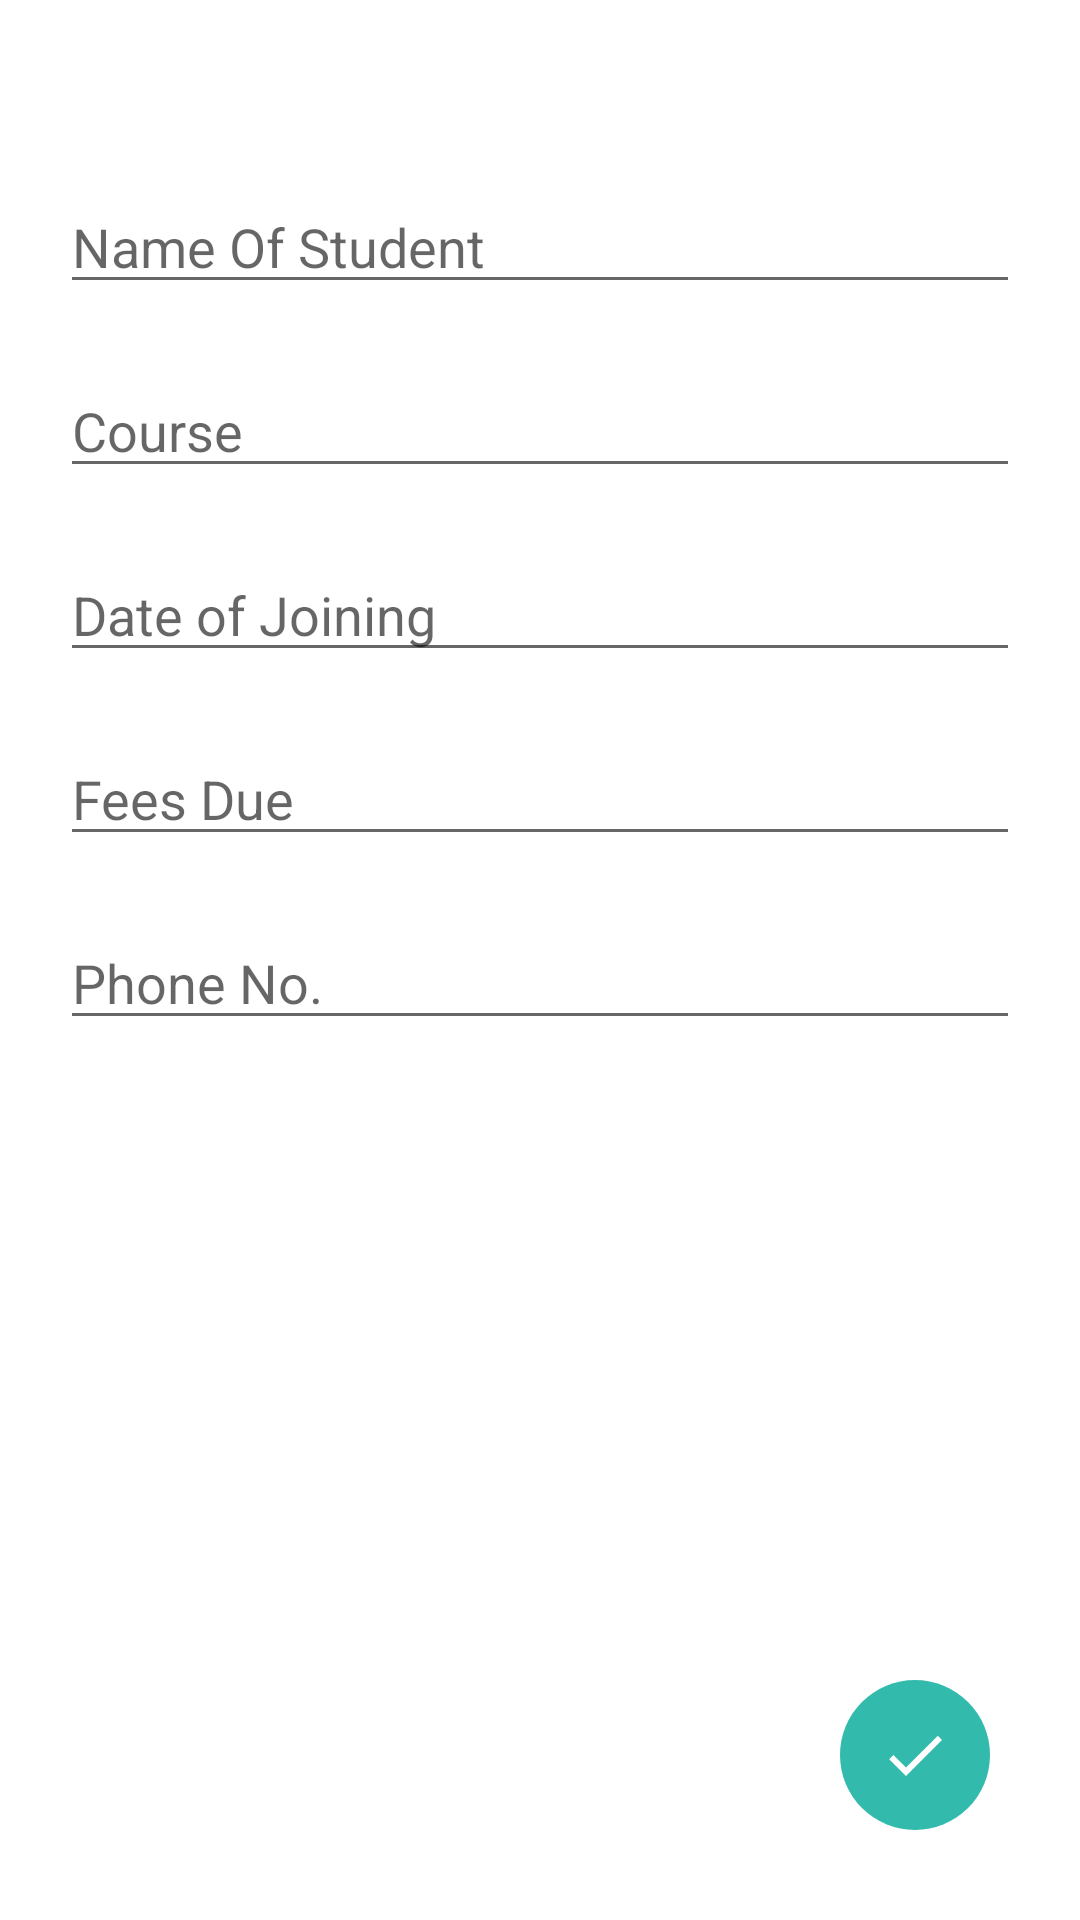

Icons on this 1080px×1920px Android screen, each with the point to tap as (x,y):
done: (915,1755)
